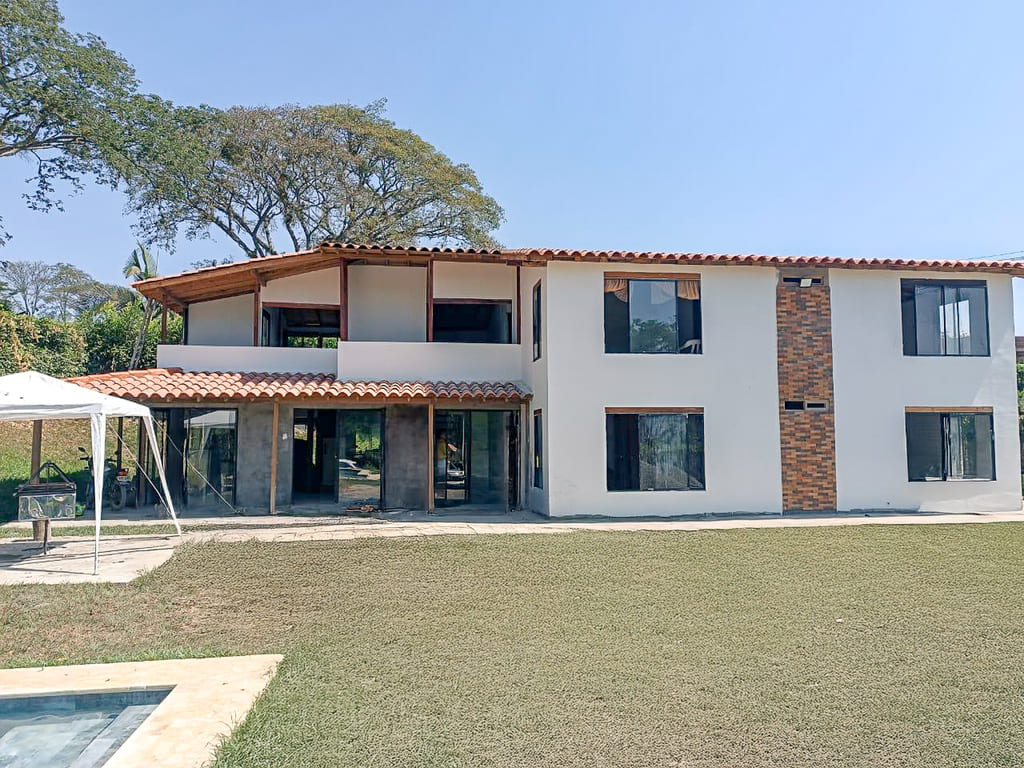House: (90, 221, 1018, 527)
